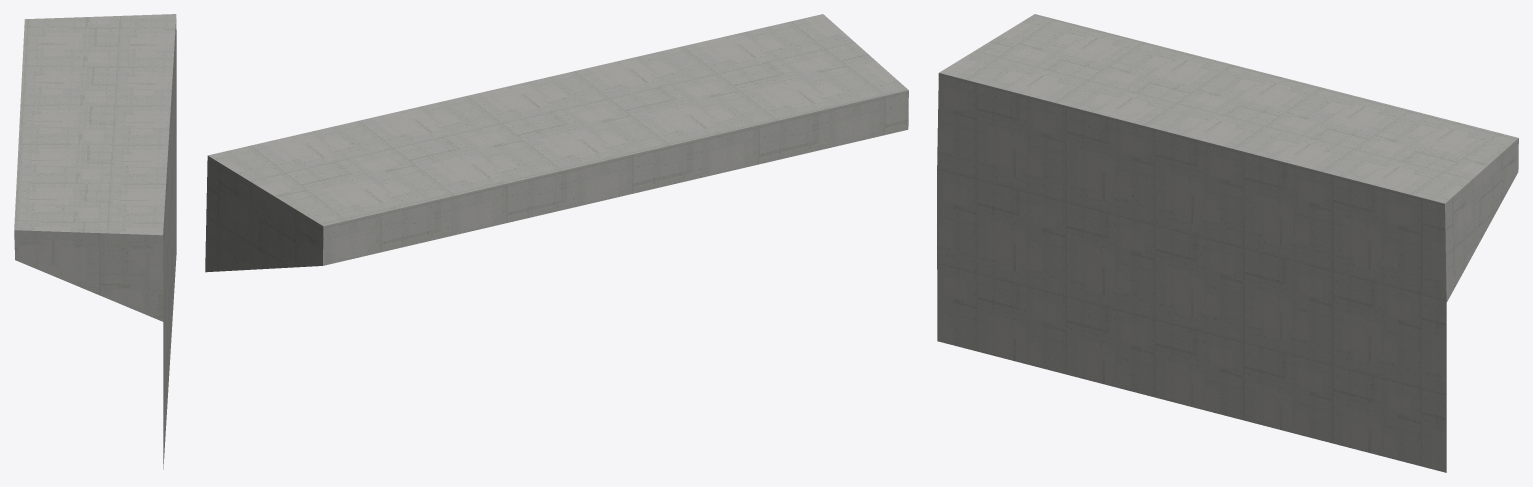
The model's file is kd_stage_1366d7_1_7.glb.
The picture shows the model from 3 angles, left to right: view 1: azimuth 30°, elevation 25°; view 2: azimuth 150°, elevation 25°; view 3: azimuth 270°, elevation 25°; orthographic projection. The views are drawn at different scales.
Visible parts, largest first — view 1: kd_stage_1366d7_1_7; view 2: kd_stage_1366d7_1_7; view 3: kd_stage_1366d7_1_7.
Boxes of the visible parts, left/top/right/bottom form: kd_stage_1366d7_1_7: left=14, top=14, right=176, bottom=469; kd_stage_1366d7_1_7: left=205, top=14, right=908, bottom=272; kd_stage_1366d7_1_7: left=937, top=14, right=1518, bottom=472.
Size of the model in its own units: 6.05 by 3.98 by 7.81.
1 material, 1 textured.
